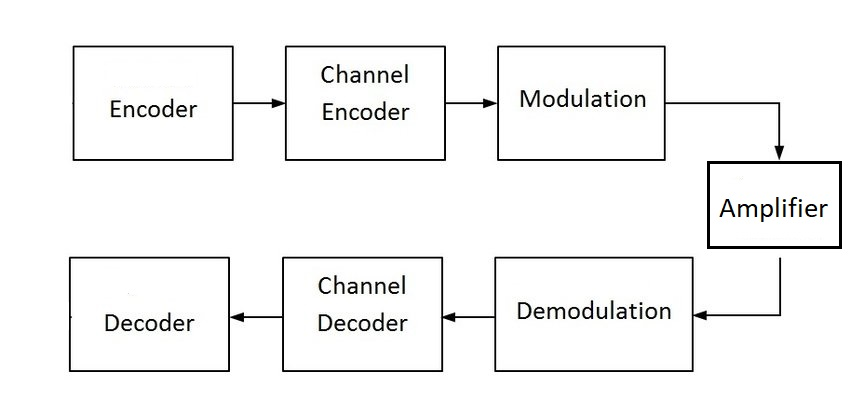arrow: (671, 98, 785, 161), (695, 247, 785, 322), (443, 98, 497, 111), (443, 310, 495, 323), (234, 97, 285, 110), (227, 311, 281, 322)
process: (492, 253, 696, 375), (493, 42, 670, 165), (282, 43, 450, 166), (279, 253, 447, 374), (70, 43, 237, 164), (67, 255, 232, 374), (704, 158, 845, 250)
text: (317, 272, 408, 336), (317, 65, 413, 123), (516, 298, 674, 321), (717, 196, 829, 223), (518, 88, 647, 109), (104, 309, 195, 334), (106, 98, 198, 122)
